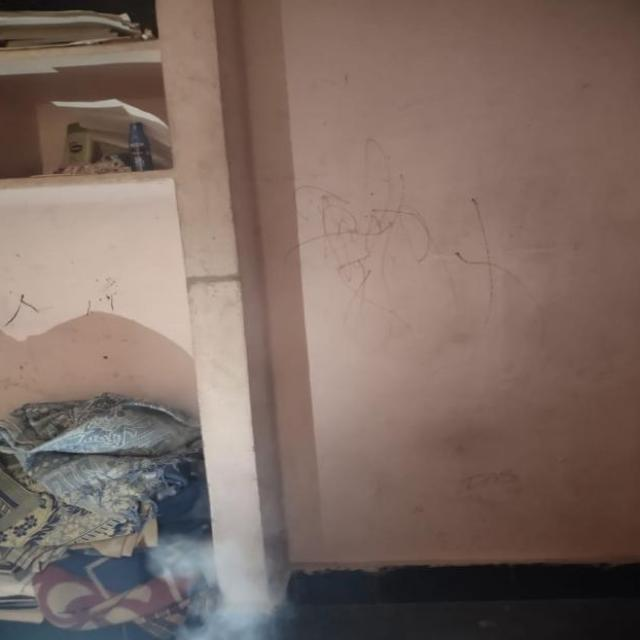fire: (104, 526, 324, 640)
